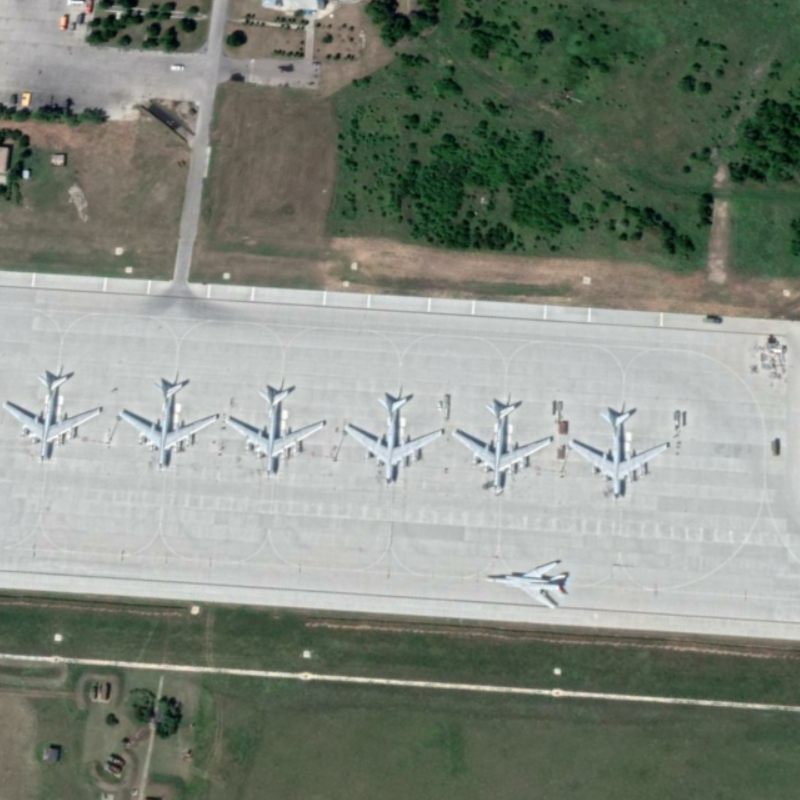A12: (483, 557, 572, 610)
A17: (339, 390, 448, 490), (448, 400, 556, 498), (224, 380, 330, 478), (116, 375, 223, 472), (562, 406, 671, 500), (2, 370, 105, 463)
